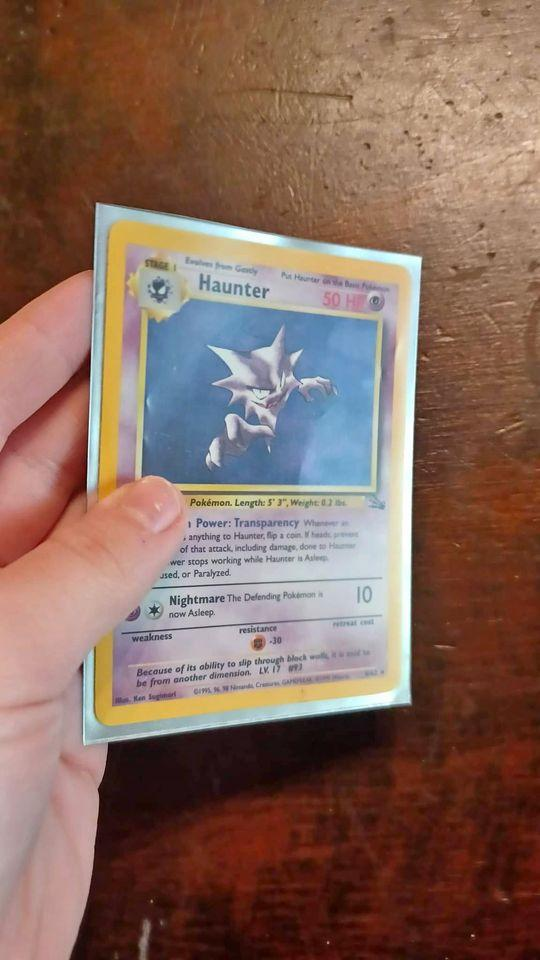card: (94, 220, 413, 727)
